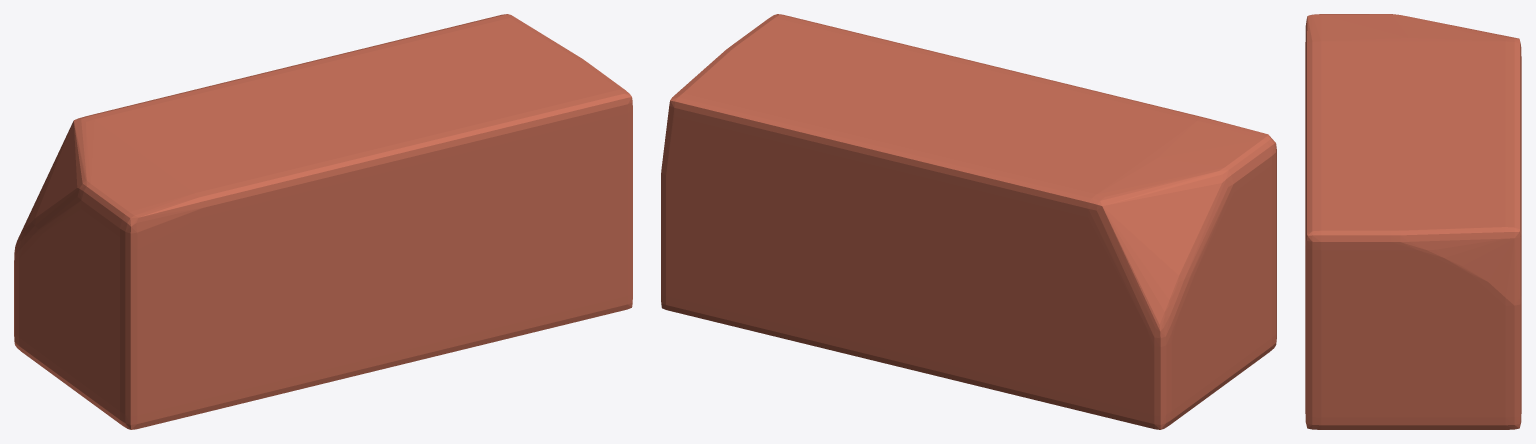
File: right_shoulder_pitch_link_part_9.obj
3 views of the same model, side by side, from view 1: azimuth 30°, elevation 25°; view 2: azimuth 150°, elevation 25°; view 3: azimuth 270°, elevation 25° (orthographic). The views are drawn at different scales.
Bounding box in the file's own units: 0.0673 × 0.0274 × 0.0271.
